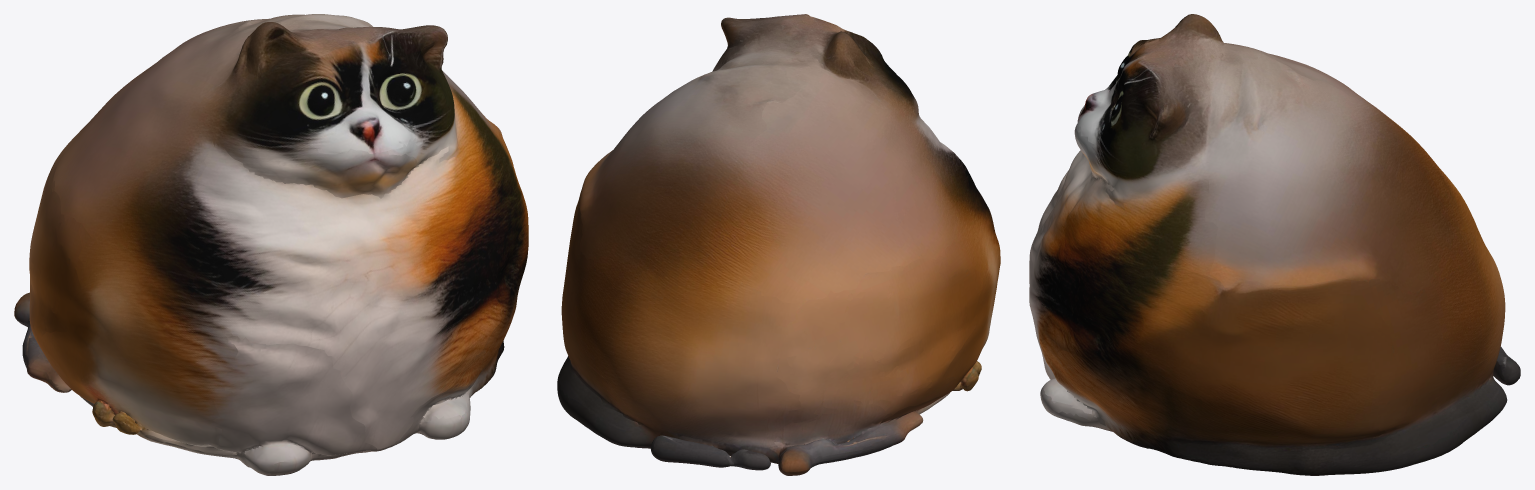
3 views of the same model, side by side, from view 1: azimuth 30°, elevation 25°; view 2: azimuth 150°, elevation 25°; view 3: azimuth 270°, elevation 25° (orthographic). The views are drawn at different scales.
Visible parts, largest first — view 1: textured_mesh.obj_1; view 2: textured_mesh.obj_1; view 3: textured_mesh.obj_1.
Part boxes in pixels (x1=…): textured_mesh.obj_1: x1=14, y1=14, x2=528, y2=475; textured_mesh.obj_1: x1=557, y1=14, x2=1000, y2=475; textured_mesh.obj_1: x1=1029, y1=14, x2=1520, y2=475.
Size of the model in its own units: 1.89 by 1.59 by 1.99.
1 material, 1 textured.
